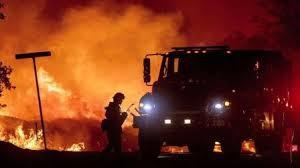fire: (0, 64, 87, 151)
